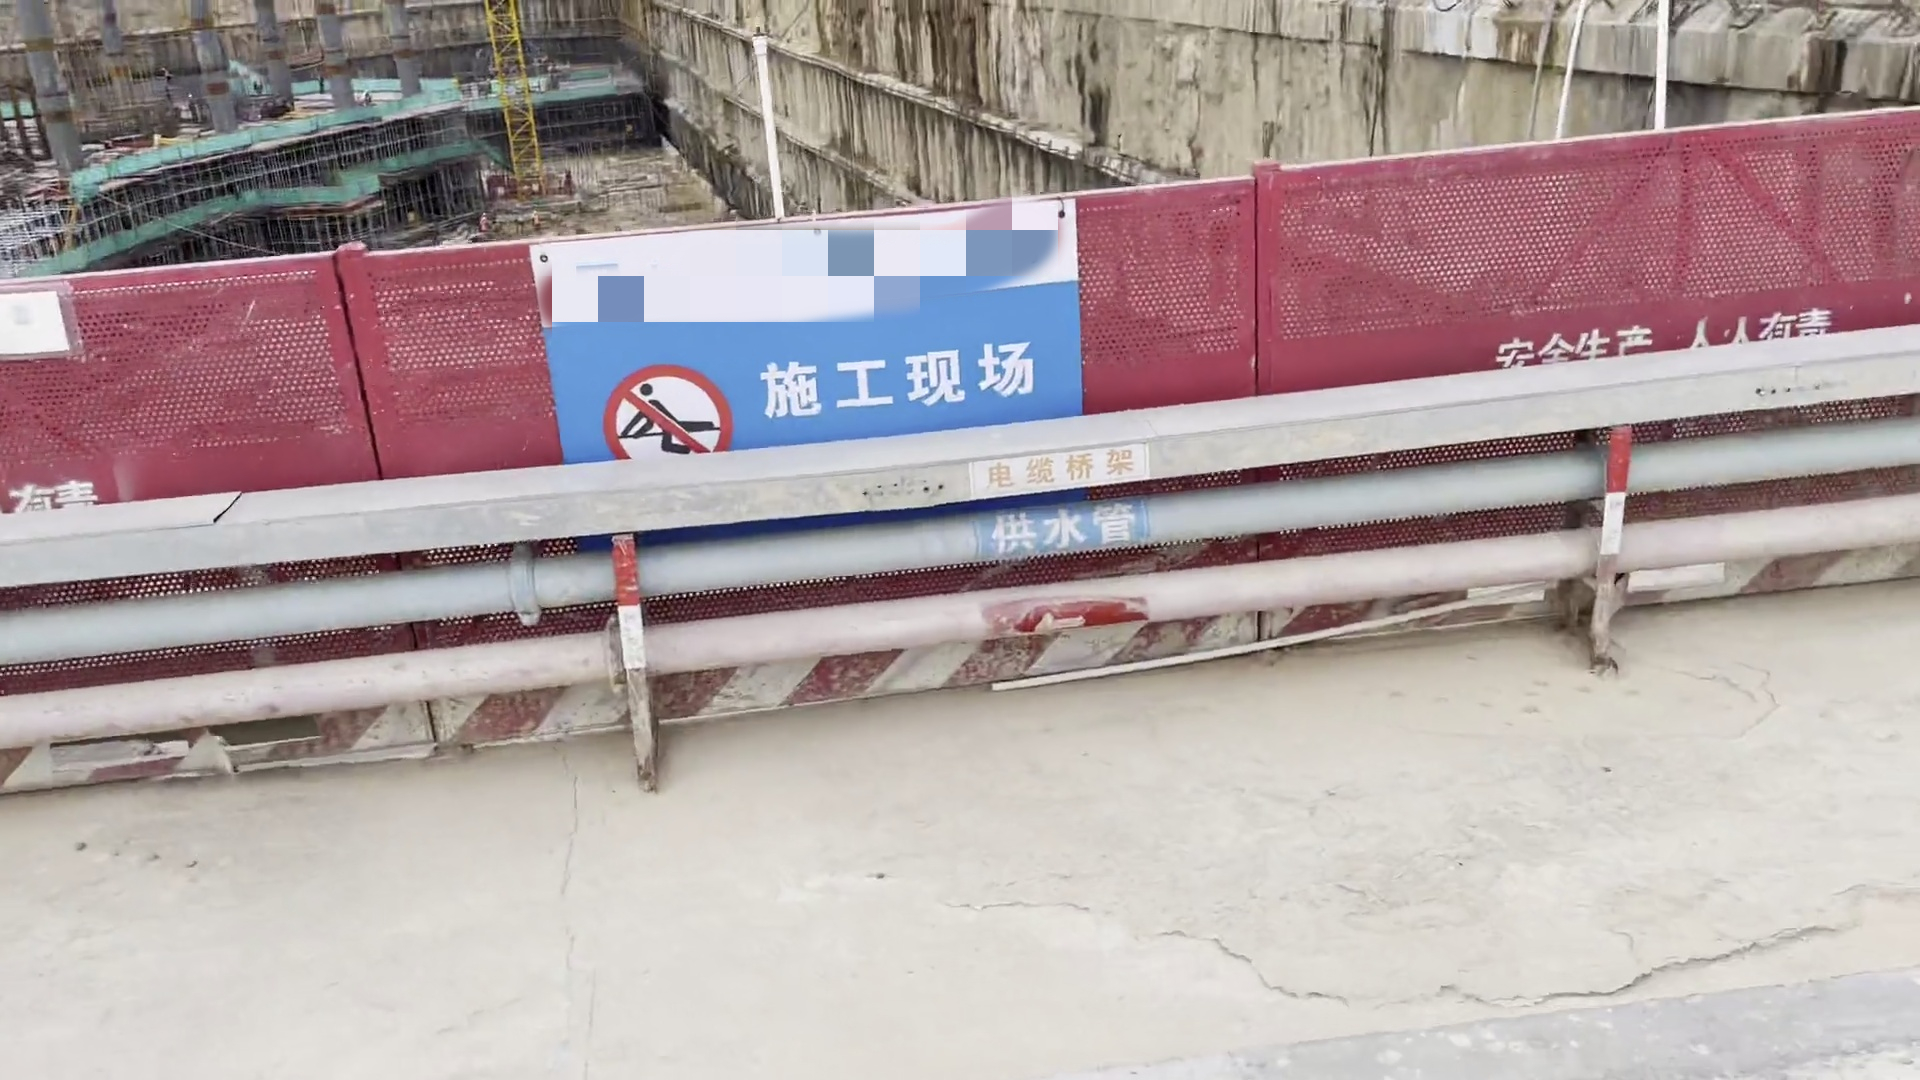fence: (825, 96, 1920, 452), (1, 212, 837, 520)
helmet: (480, 211, 488, 217), (533, 211, 538, 215)
person: (475, 210, 489, 236), (529, 207, 541, 236)
slogan: (510, 198, 1099, 506), (967, 428, 1163, 570), (1, 277, 106, 381)
vest: (531, 214, 539, 228), (480, 217, 488, 229)
